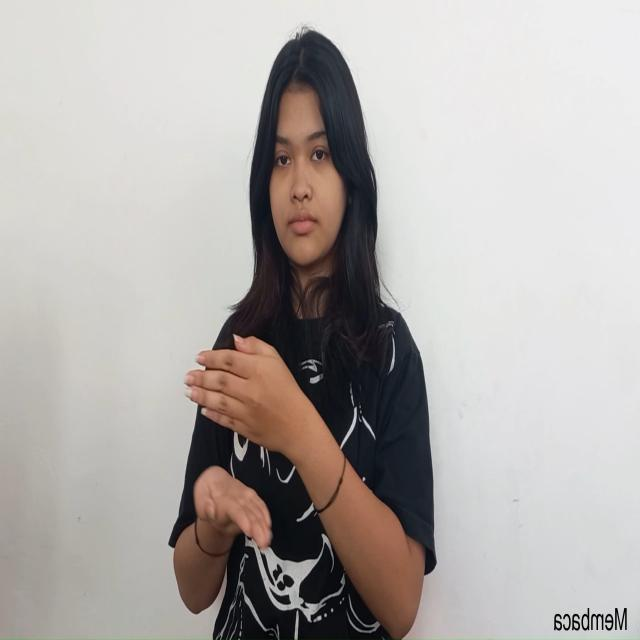Membaca -BISINDO-: (183, 332, 309, 551)
